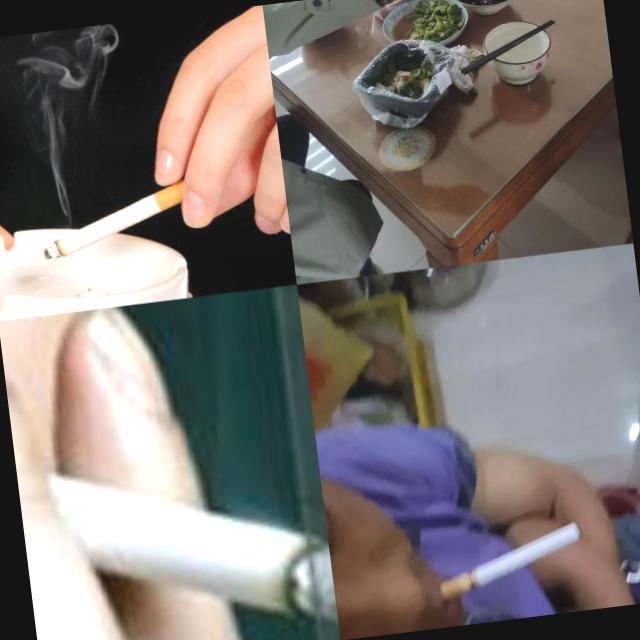cigarette: (13, 410, 339, 640), (32, 168, 201, 268), (432, 520, 586, 604)
